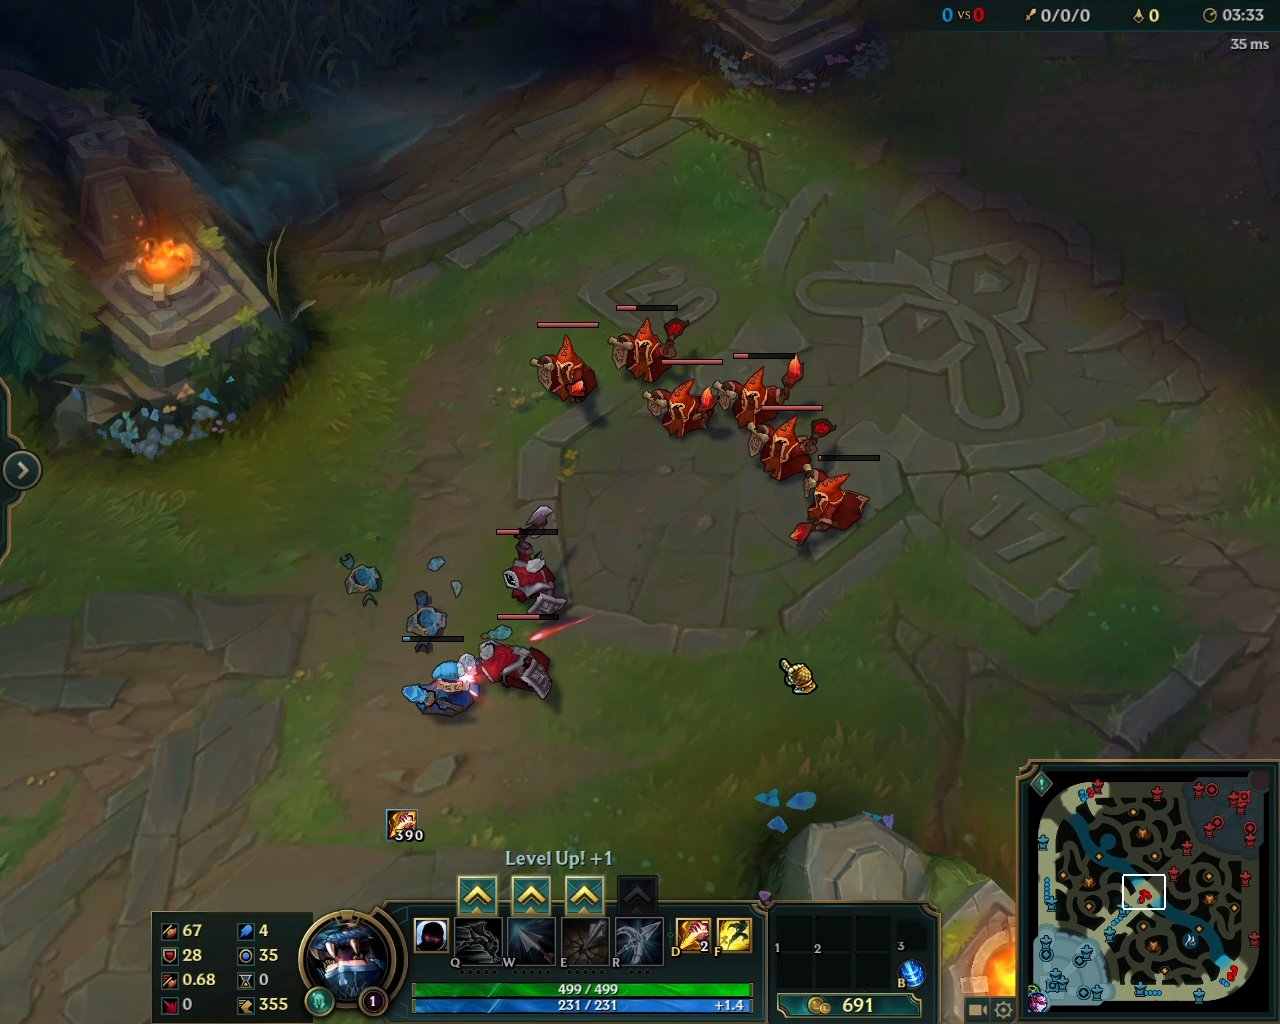EnemyMinion: (783, 455, 879, 546), (479, 613, 564, 701), (713, 352, 802, 433), (496, 527, 573, 621), (607, 302, 690, 386), (642, 357, 723, 442), (528, 322, 604, 408), (747, 405, 835, 480)
